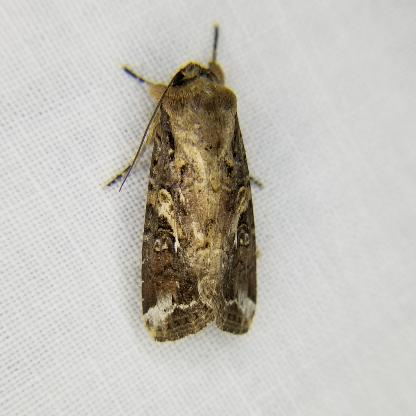Fall Armyworm Moth: (101, 22, 267, 346)
